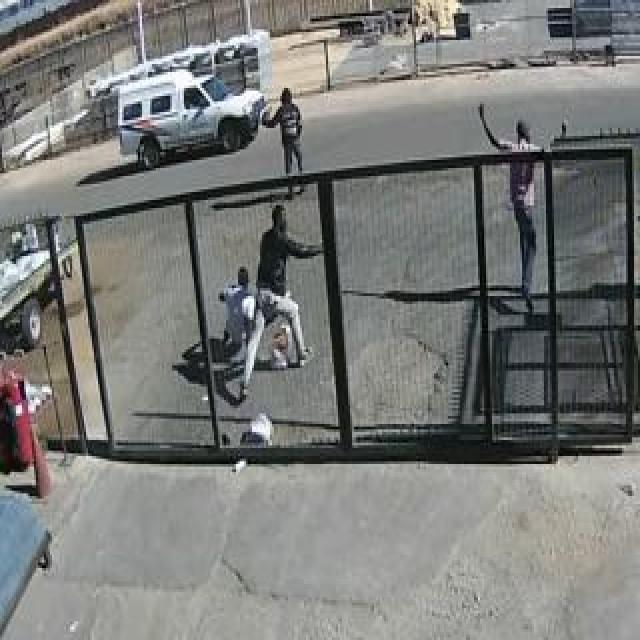Shoplifting: (105, 133, 400, 461)
